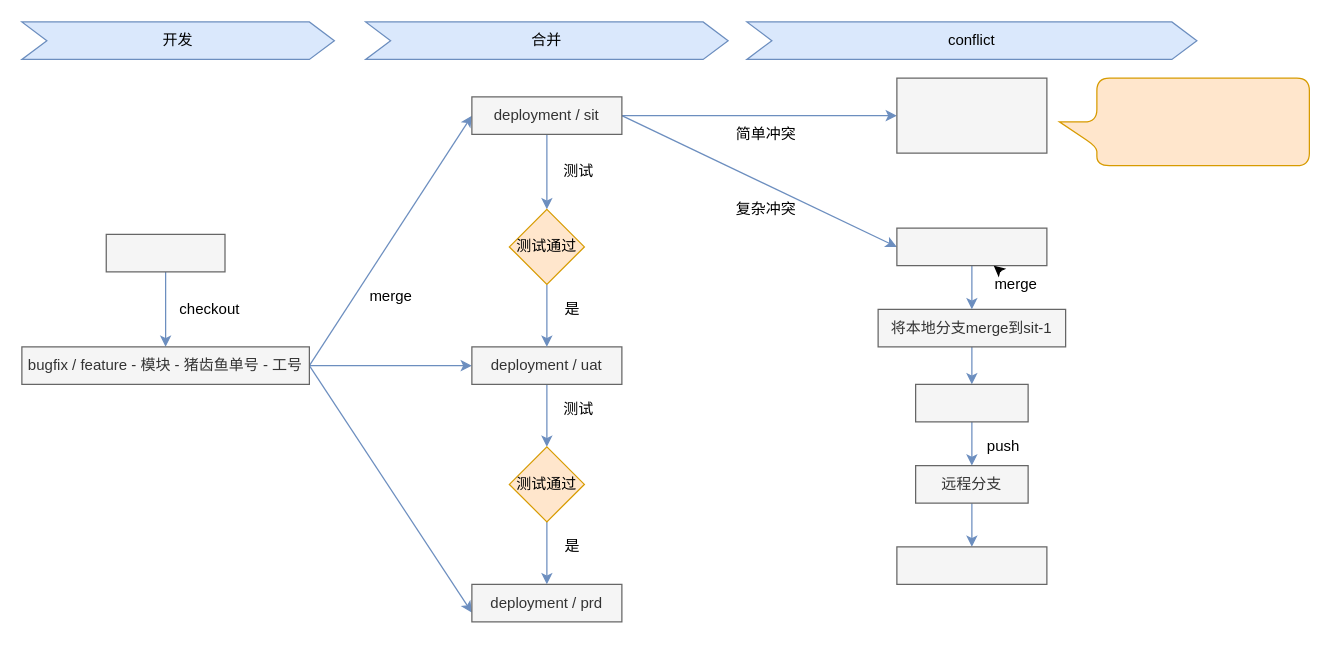
Image size: 1331x645. Some labels were removed from this diagram. Each missing label, with the centre of its shape:
master1: the point at 165,252
sit-1 merge到 sit: the point at 971,565
删除远程分支， 重新push本地分支: the point at 1183,121
在本地与sit对比，保证变化的内容都是自己所开发的: the point at 971,115
基于sit切分支 sit-1: the point at 971,246
解决冲突: the point at 971,402
